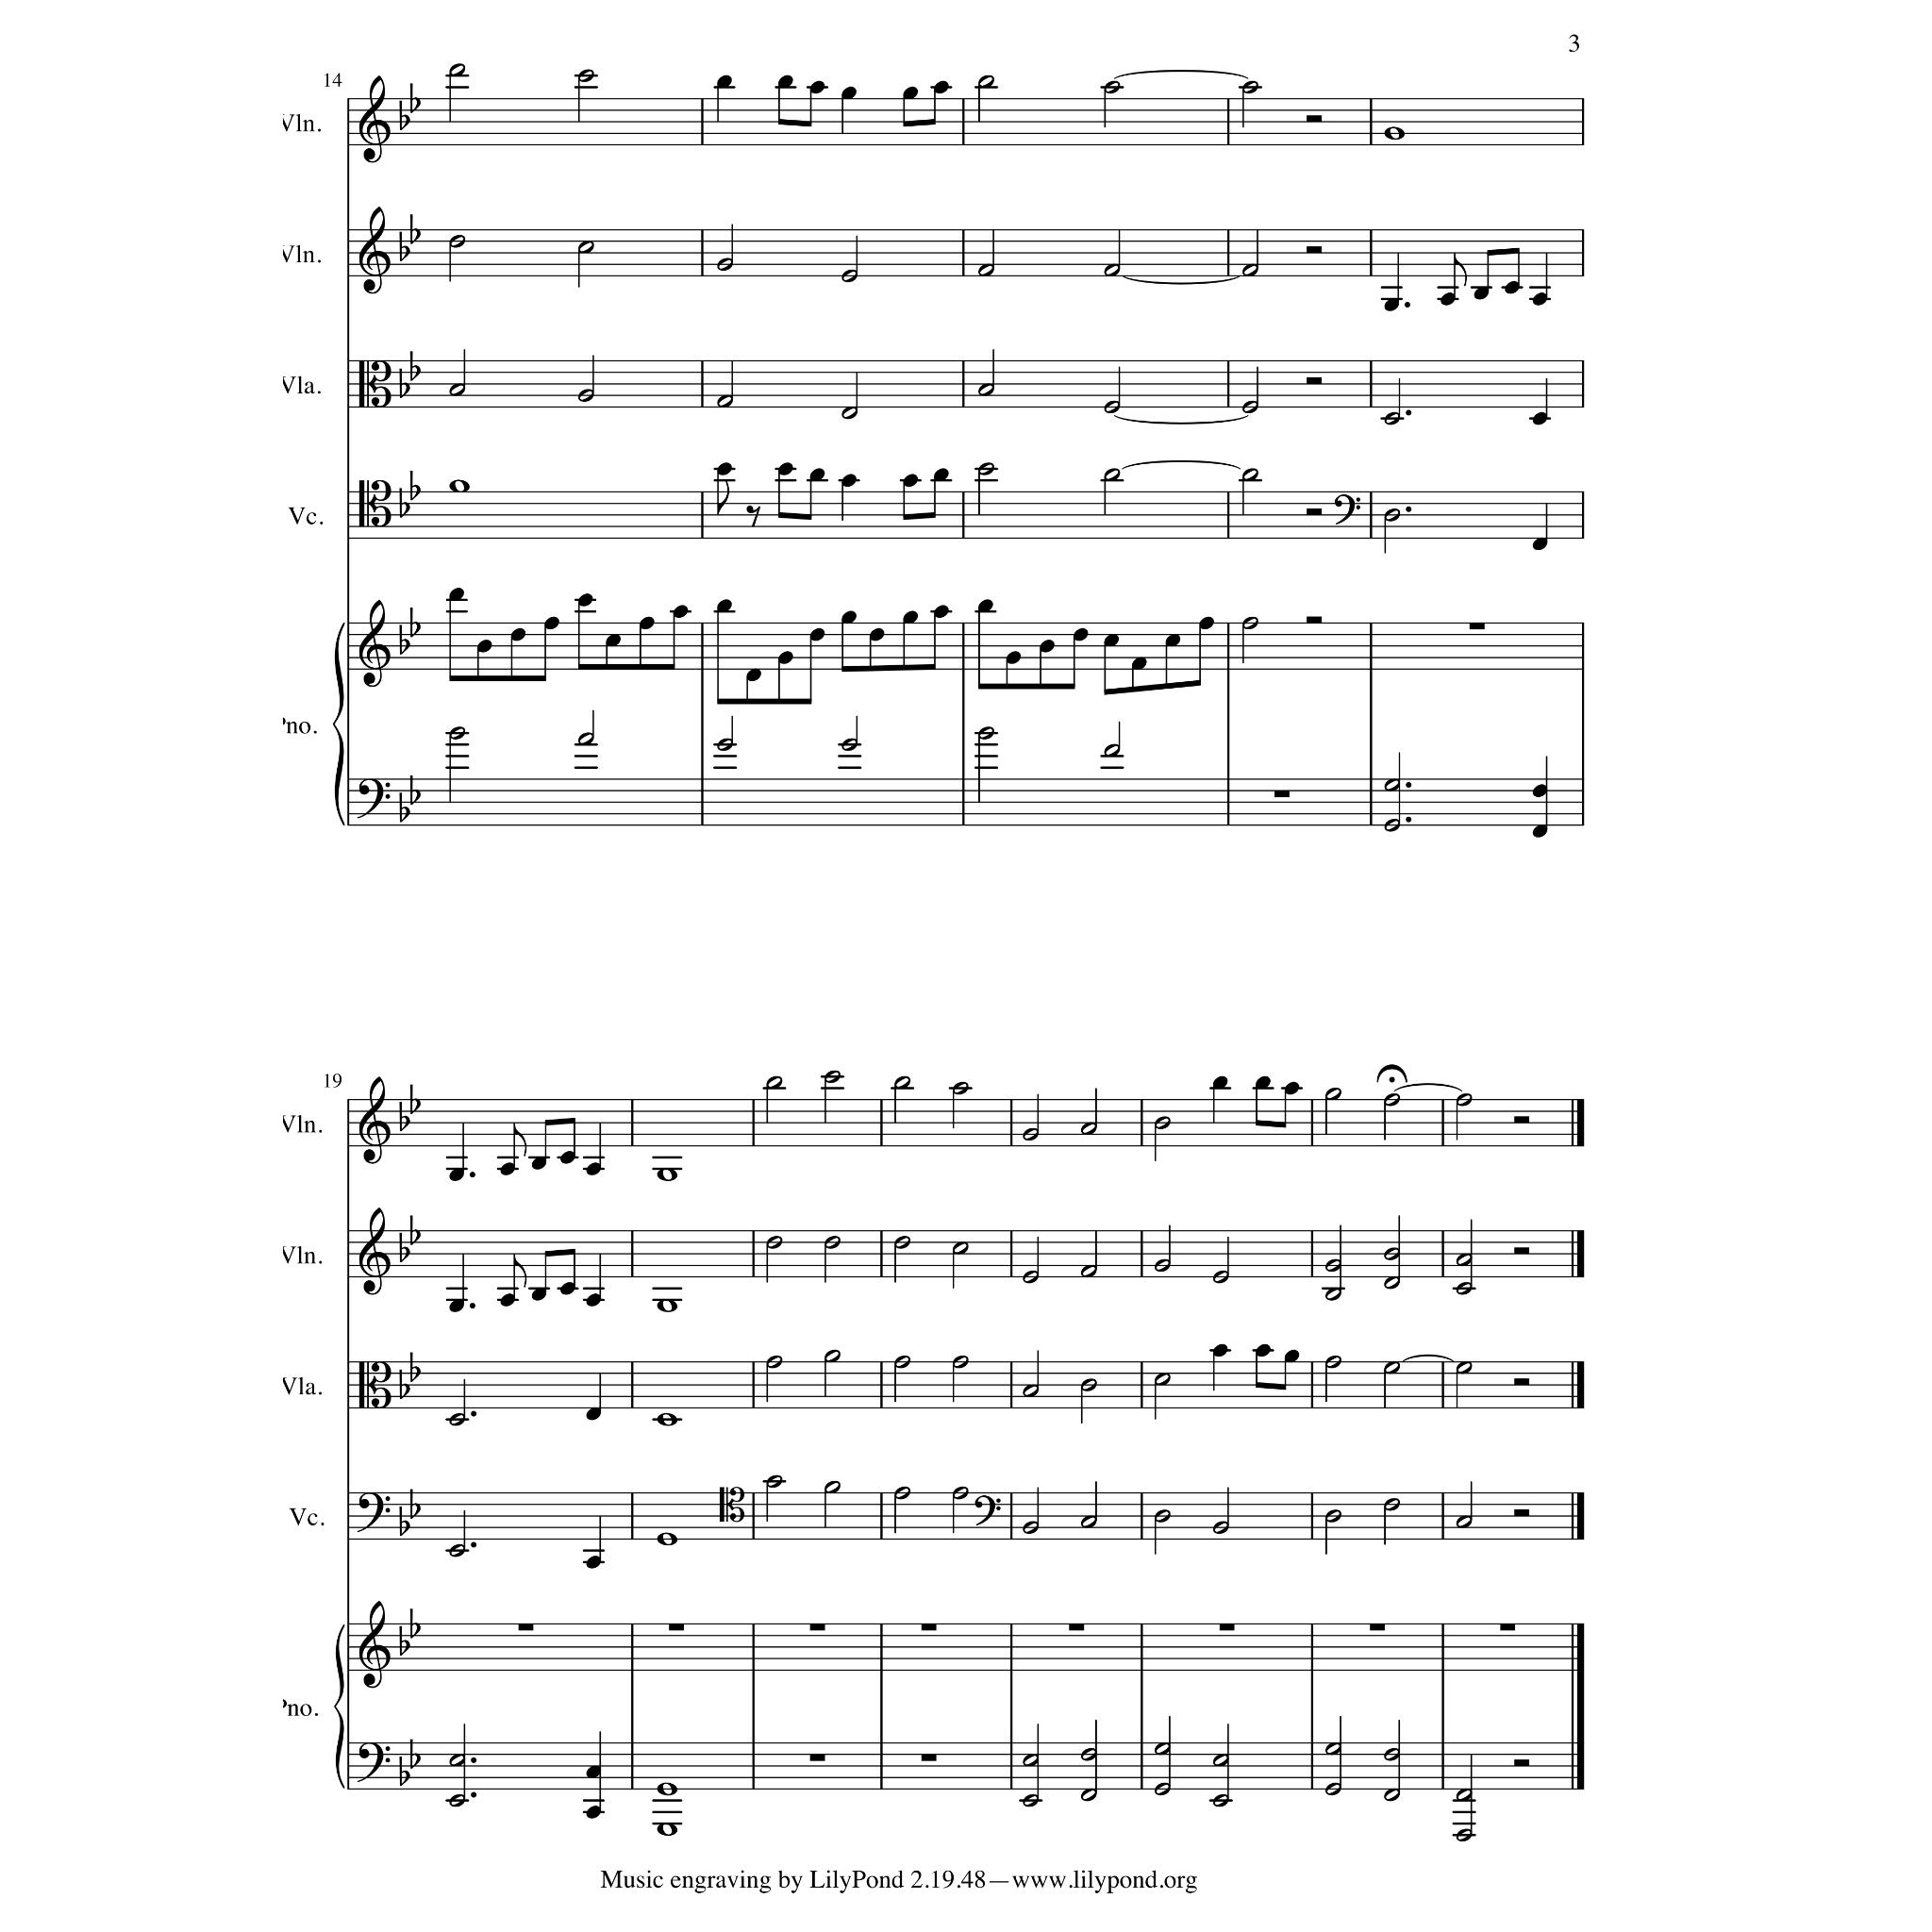brace: (333, 623, 345, 826), (333, 1624, 345, 1789)
fClef: (357, 778, 391, 819), (357, 1491, 391, 1532), (357, 1743, 391, 1782)
flag8thDown: (718, 481, 729, 515)
flag8thUp: (513, 1254, 527, 1288), (513, 1123, 527, 1157), (1454, 253, 1467, 288)
gClef: (359, 1076, 391, 1166), (359, 205, 391, 294), (359, 76, 391, 165), (359, 600, 391, 688), (359, 1207, 391, 1295), (359, 1599, 391, 1688)
noteheadBlack: (745, 669, 763, 683), (1164, 633, 1180, 648), (1005, 651, 1021, 665), (1072, 628, 1088, 642), (1104, 633, 1120, 648), (1532, 784, 1548, 798), (1440, 292, 1456, 306), (1474, 287, 1490, 301), (1532, 292, 1548, 306), (1384, 297, 1399, 311), (605, 633, 621, 648), (577, 593, 593, 607), (510, 628, 525, 642), (717, 600, 732, 614), (449, 587, 465, 602), (869, 628, 885, 642), (902, 87, 918, 101), (902, 474, 918, 488), (840, 87, 856, 101), (840, 474, 856, 488), (977, 600, 993, 614), (934, 467, 950, 481), (777, 651, 793, 665), (809, 628, 824, 642), (809, 467, 824, 481), (1212, 1076, 1228, 1090), (1254, 1076, 1270, 1090), (586, 1162, 602, 1177), (586, 1407, 602, 1421), (586, 1555, 602, 1569), (586, 1805, 602, 1819), (586, 1764, 602, 1778), (559, 1150, 575, 1164), (499, 1162, 515, 1177), (449, 1299, 465, 1313), (1198, 617, 1214, 630), (1039, 640, 1054, 653), (1131, 658, 1146, 671), (1532, 538, 1548, 550), (1532, 824, 1548, 837), (1532, 412, 1548, 425), (1504, 281, 1520, 294), (639, 617, 655, 630), (543, 617, 559, 630), (717, 76, 732, 88), (672, 605, 688, 617), (717, 464, 732, 476), (476, 640, 492, 653), (902, 612, 918, 625), (840, 612, 856, 625), (934, 81, 950, 94), (934, 605, 950, 617), (777, 76, 793, 88), (777, 464, 793, 476), (809, 81, 824, 94), (1212, 1345, 1228, 1357), (1283, 1083, 1299, 1095), (1283, 1350, 1299, 1362), (1254, 1345, 1270, 1357), (586, 1293, 602, 1306), (531, 1157, 547, 1169), (531, 1288, 547, 1300), (559, 1283, 575, 1295), (499, 1293, 515, 1306), (449, 1169, 465, 1182)
noteheadHalf: (1384, 508, 1401, 522), (1384, 778, 1401, 793), (577, 69, 594, 83), (577, 241, 594, 255), (577, 732, 594, 747), (448, 64, 465, 78), (840, 269, 858, 283), (840, 738, 858, 752), (977, 264, 994, 278), (1212, 1794, 1230, 1808), (1212, 1753, 1230, 1767), (1212, 1270, 1230, 1284), (1154, 1509, 1171, 1523), (448, 1545, 465, 1559), (448, 1794, 465, 1808), (448, 1753, 465, 1767), (952, 1355, 970, 1369), (952, 1486, 970, 1500), (893, 1486, 911, 1500), (1021, 1270, 1039, 1284), (1021, 1794, 1039, 1808), (1021, 1753, 1039, 1767), (893, 1355, 911, 1369), (766, 1235, 784, 1249), (766, 1076, 784, 1090), (766, 1355, 784, 1369), (766, 1476, 784, 1490), (823, 1070, 840, 1085), (823, 1235, 840, 1249), (823, 1481, 840, 1495), (893, 1235, 911, 1249), (893, 1076, 911, 1090), (1242, 264, 1258, 278), (1242, 467, 1258, 481), (1104, 264, 1120, 278), (1104, 467, 1120, 481), (717, 258, 732, 272), (717, 395, 732, 409), (717, 738, 732, 752), (1325, 1355, 1341, 1369), (1325, 1509, 1341, 1523), (1081, 1514, 1097, 1529), (1081, 1122, 1097, 1136), (1456, 1828, 1472, 1842), (1456, 1093, 1472, 1108), (1456, 1253, 1472, 1267), (1456, 1361, 1472, 1375), (1456, 1514, 1472, 1529), (1384, 1093, 1399, 1108), (1384, 1276, 1399, 1290), (1384, 1247, 1399, 1261), (1384, 1361, 1399, 1375), (1384, 412, 1401, 425), (1384, 819, 1401, 832), (577, 389, 594, 402), (448, 235, 465, 248), (448, 384, 465, 396), (448, 727, 465, 740), (840, 407, 858, 419), (977, 464, 994, 476), (977, 76, 994, 88), (977, 384, 994, 396), (977, 727, 994, 740), (1212, 1522, 1230, 1534), (1154, 1116, 1171, 1129), (1154, 1260, 1171, 1272), (1154, 1373, 1171, 1385), (1154, 1783, 1171, 1796), (1154, 1743, 1171, 1755), (448, 1414, 465, 1426), (952, 1083, 970, 1095), (952, 1242, 970, 1254), (1021, 1129, 1039, 1141), (1021, 1385, 1039, 1398), (1021, 1522, 1039, 1534), (823, 1350, 840, 1362), (1242, 81, 1258, 94), (1242, 402, 1258, 414), (1242, 617, 1258, 630), (1104, 81, 1120, 94), (1104, 402, 1120, 414), (1104, 745, 1120, 757), (1325, 1088, 1341, 1100), (1325, 1288, 1341, 1300), (1325, 1260, 1341, 1272), (1325, 1783, 1341, 1796), (1325, 1743, 1341, 1755), (1081, 1265, 1097, 1277), (1081, 1378, 1097, 1391), (1081, 1789, 1097, 1801), (1081, 1748, 1097, 1760), (1456, 1789, 1472, 1801), (1456, 1283, 1472, 1295), (1384, 1499, 1399, 1511), (1384, 1789, 1399, 1801), (1384, 1748, 1399, 1760)
noteheadWhole: (449, 479, 471, 494), (656, 1822, 678, 1836), (656, 1299, 678, 1313), (656, 1532, 678, 1546), (1384, 127, 1405, 140), (656, 1169, 678, 1182), (656, 1414, 678, 1426), (656, 1783, 678, 1796)
rest8th: (745, 506, 761, 529)
restHalf: (1306, 377, 1322, 386), (1306, 508, 1322, 517), (1514, 1759, 1530, 1767), (1306, 115, 1322, 122), (1306, 246, 1322, 253), (1306, 617, 1322, 625), (1514, 1509, 1530, 1516), (1514, 1116, 1530, 1123), (1514, 1247, 1530, 1254), (1514, 1378, 1530, 1385)
restWhole: (517, 1624, 534, 1631), (1274, 791, 1290, 798), (1468, 623, 1484, 630), (920, 1624, 936, 1631), (1219, 1624, 1235, 1631), (920, 1753, 936, 1760), (1069, 1624, 1085, 1631), (669, 1624, 685, 1631), (809, 1753, 824, 1760), (809, 1624, 824, 1631), (1369, 1624, 1385, 1631), (1500, 1624, 1516, 1631)
